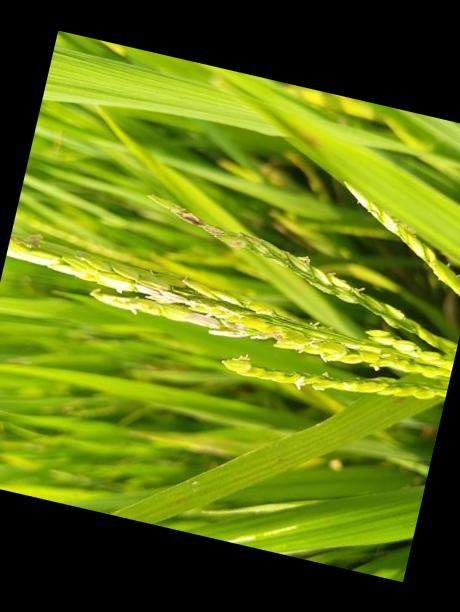Panicle Blight: (146, 195, 282, 259)
